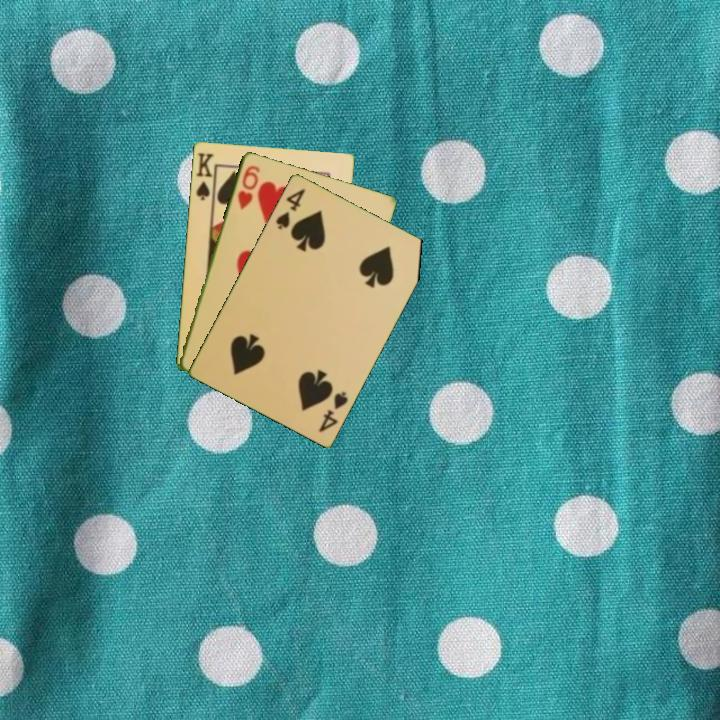4s: (272, 185, 308, 233), (315, 387, 351, 435)
6h: (234, 161, 262, 212)
Ks: (192, 149, 218, 204)
